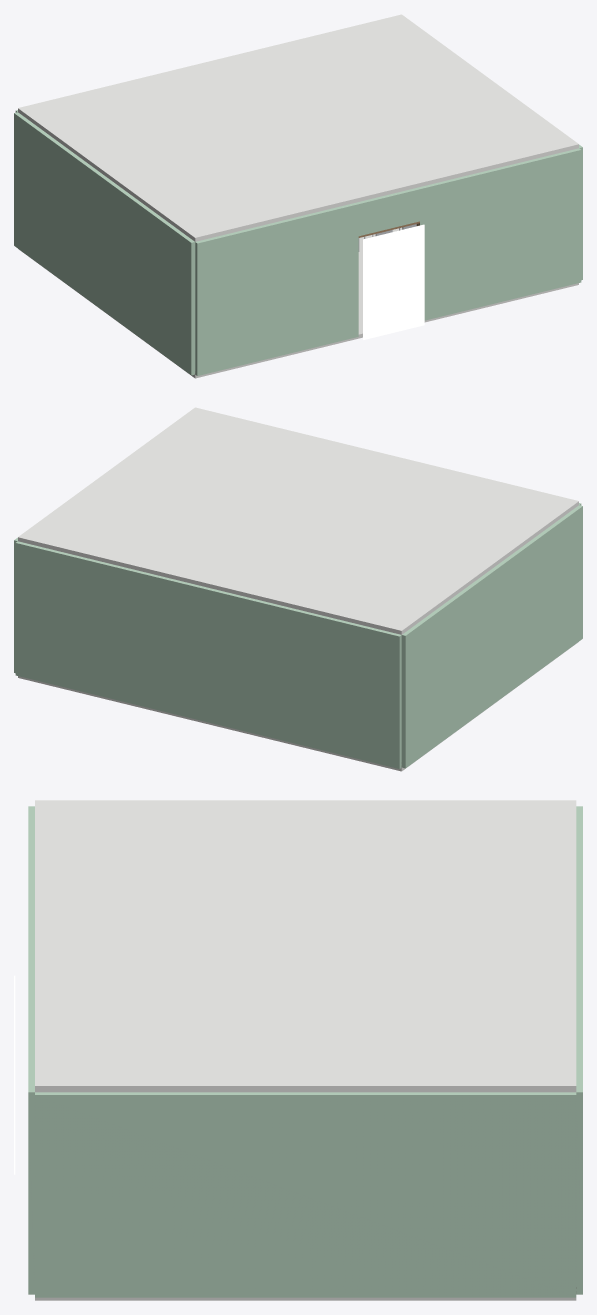
File: room_restaurant.glb
3 renders of one model, top to bottom at view 1: azimuth 30°, elevation 25°; view 2: azimuth 150°, elevation 25°; view 3: azimuth 270°, elevation 25°, orthographic. The views are drawn at different scales.
Parts seen in each view (by area): view 1: Room; view 2: Room; view 3: Room.
Boxes of the visible parts, box(x1,y1,x2,y2) form: Room: box(14, 14, 582, 378); Room: box(14, 407, 582, 771); Room: box(14, 800, 582, 1300).
Size of the model in its own units: 10.2 by 3.5 by 8.41.
